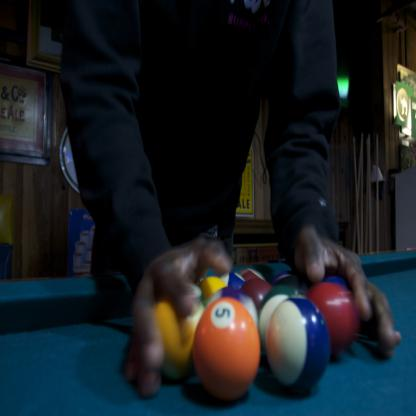Ball: (154, 268, 364, 404)
